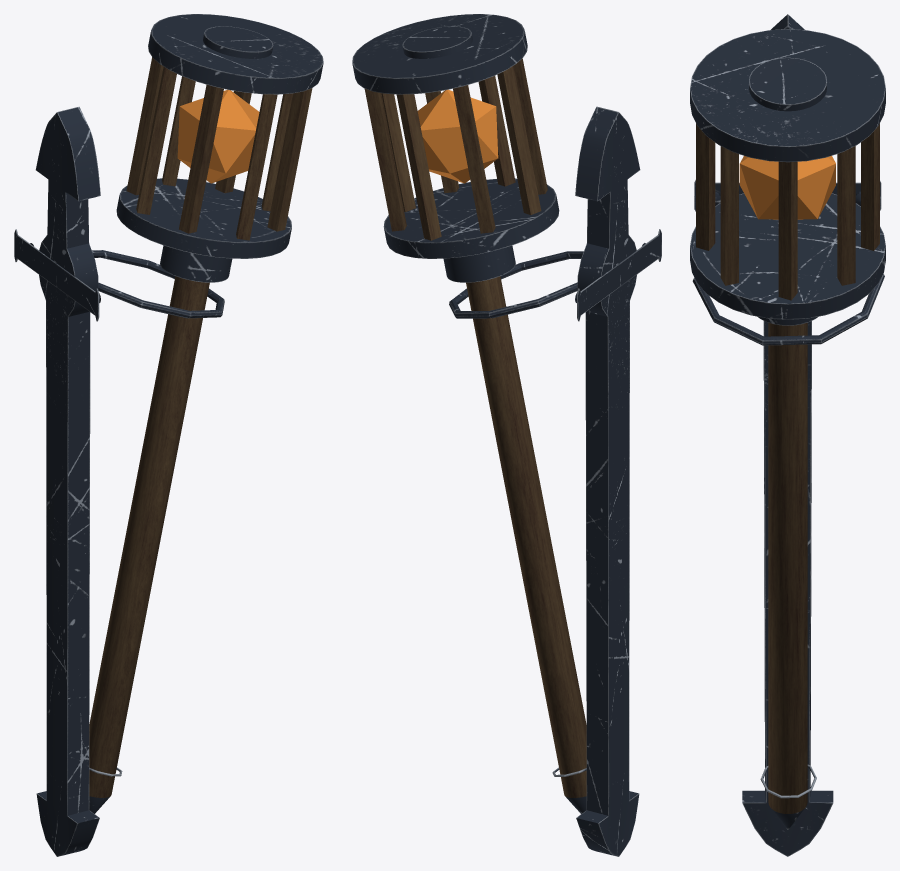
File: Torch.fbx
3 renders of one model, left to right at view 1: azimuth 30°, elevation 25°; view 2: azimuth 150°, elevation 25°; view 3: azimuth 270°, elevation 25°, orthographic. The views are drawn at different scales.
Parts seen in each view (by area): view 1: Cube.001; view 2: Cube.001; view 3: Cube.001.
Part boxes in pixels (left/top/right/bottom): Cube.001: left=14, top=14, right=323, bottom=856; Cube.001: left=352, top=14, right=661, bottom=856; Cube.001: left=690, top=14, right=885, bottom=856.
Bounding box in the file's own units: 45.08 × 131 × 26.71.
